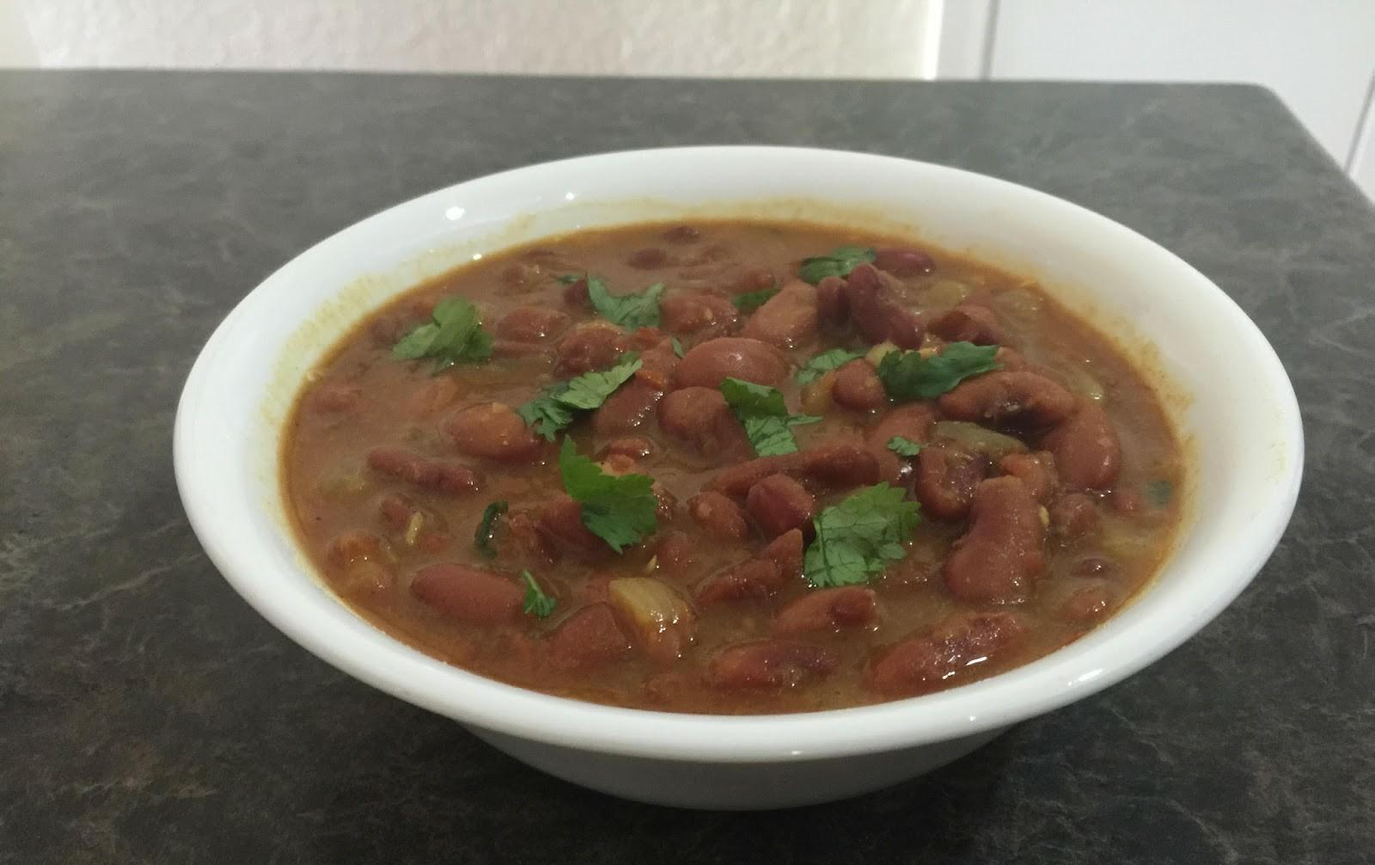RajmaCurry: (281, 225, 1189, 714)
